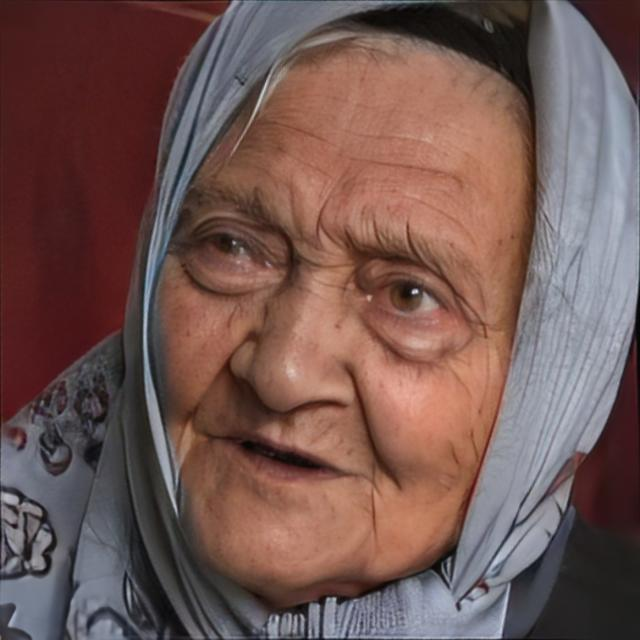anger: (150, 38, 538, 594)
